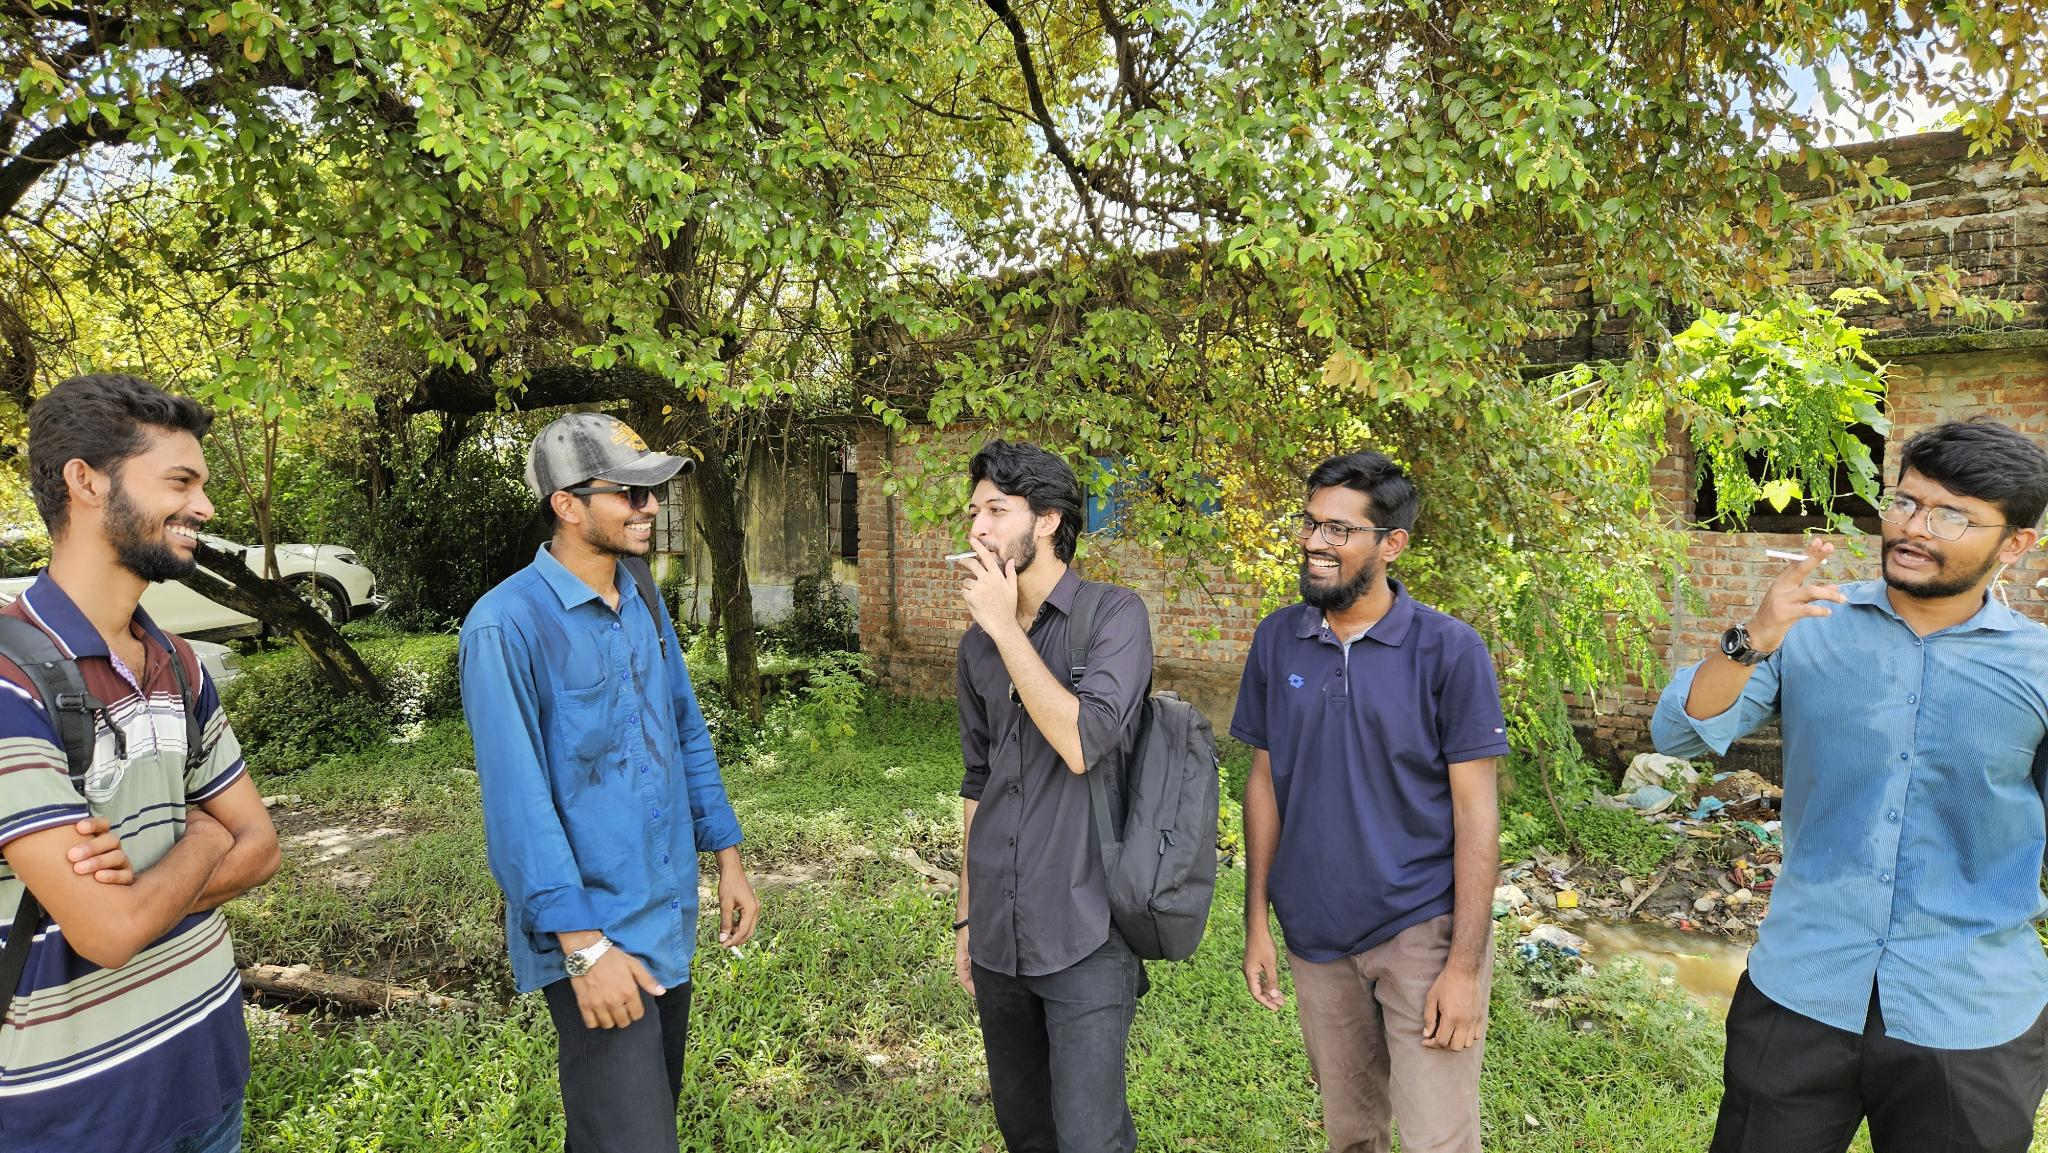cigarette: (1762, 547, 1830, 568), (724, 936, 747, 962), (942, 550, 979, 562)
nonSmoker: (0, 375, 281, 1153), (1225, 451, 1501, 1153)
smoker: (1647, 418, 2048, 1153), (459, 411, 761, 1153), (954, 436, 1218, 1153)
